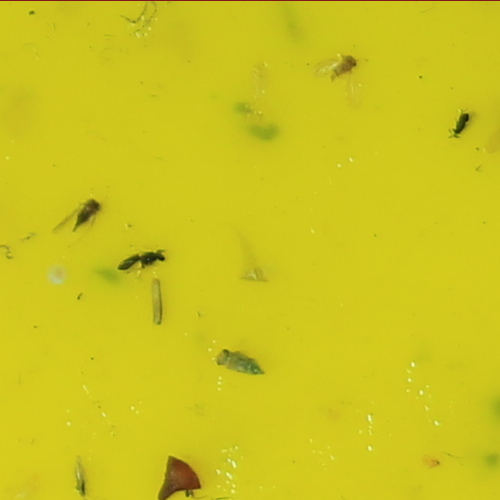Platyobria: (330, 53, 359, 80)
cicada: (214, 346, 265, 376)
psylla: (72, 196, 102, 231)
